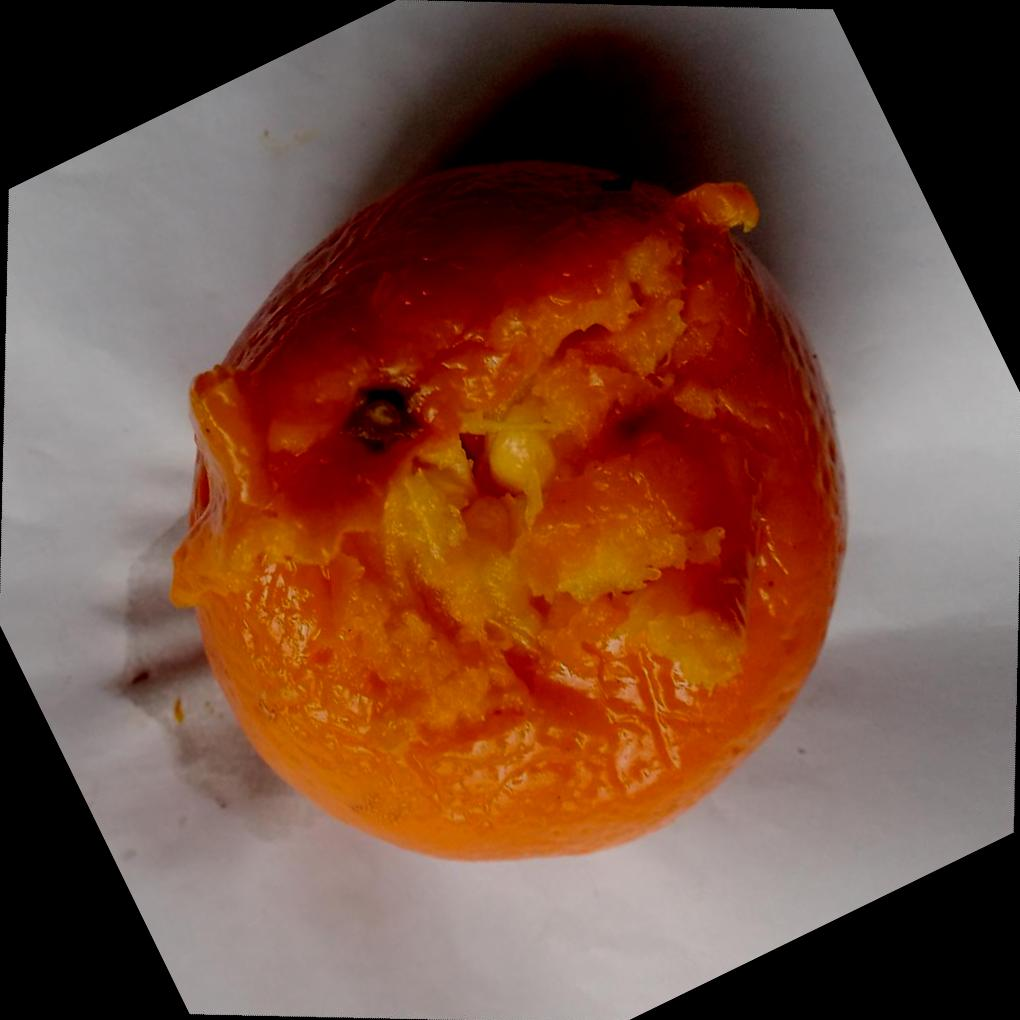FreshOrange: (167, 151, 848, 860)
